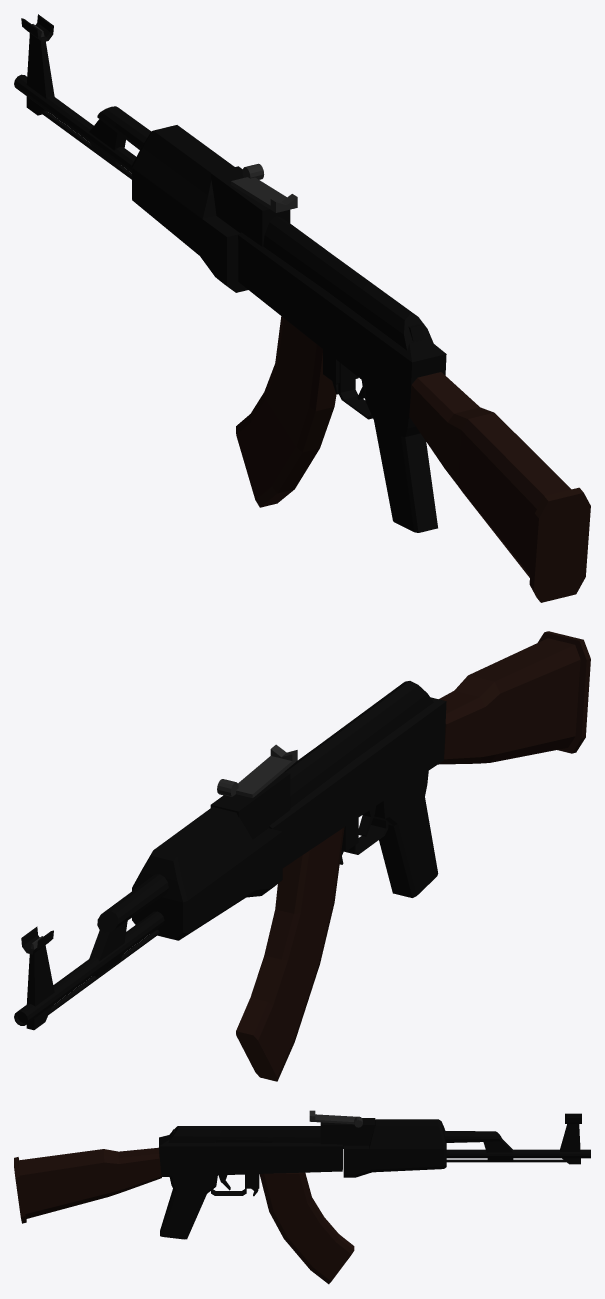
The model's file is SK_AssaultRifle_01.FBX.
3 renders of one model, top to bottom at view 1: azimuth 30°, elevation 25°; view 2: azimuth 150°, elevation 25°; view 3: azimuth 270°, elevation 25°, orthographic. The views are drawn at different scales.
Visible parts, largest first — view 1: AssaultRifle_01; view 2: AssaultRifle_01; view 3: AssaultRifle_01.
Part boxes in pixels (x1,y1,x2,y2): AssaultRifle_01: (14,14,590,602); AssaultRifle_01: (14,631,590,1081); AssaultRifle_01: (14,1110,590,1284).
Size of what is drawn, in the model's own units: 27.21 by 463 by 149.
